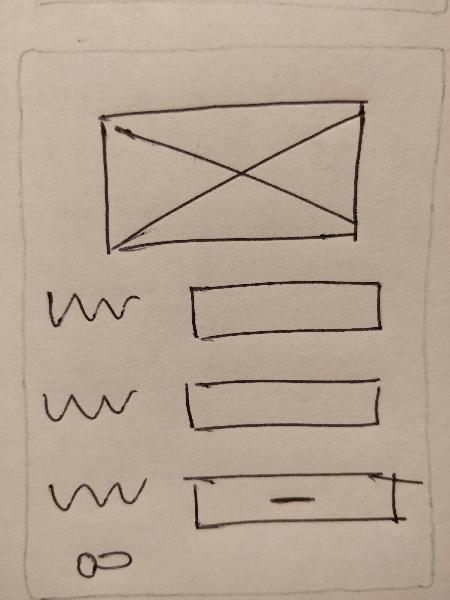button: (173, 463, 422, 537)
image: (87, 91, 378, 264)
switch: (56, 537, 141, 582)
text: (36, 469, 156, 525), (32, 370, 139, 427), (40, 275, 144, 332)
text_input: (171, 272, 392, 350), (171, 369, 391, 445)
